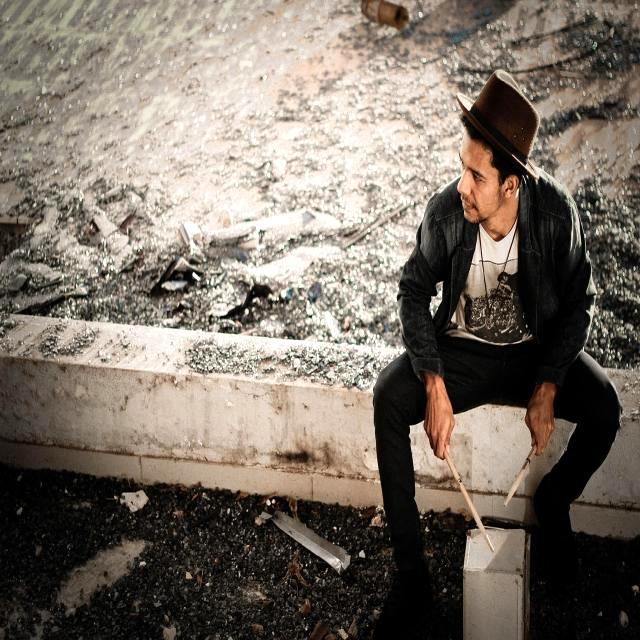no_hard_hat: (457, 70, 539, 177)
person: (374, 118, 620, 631)
